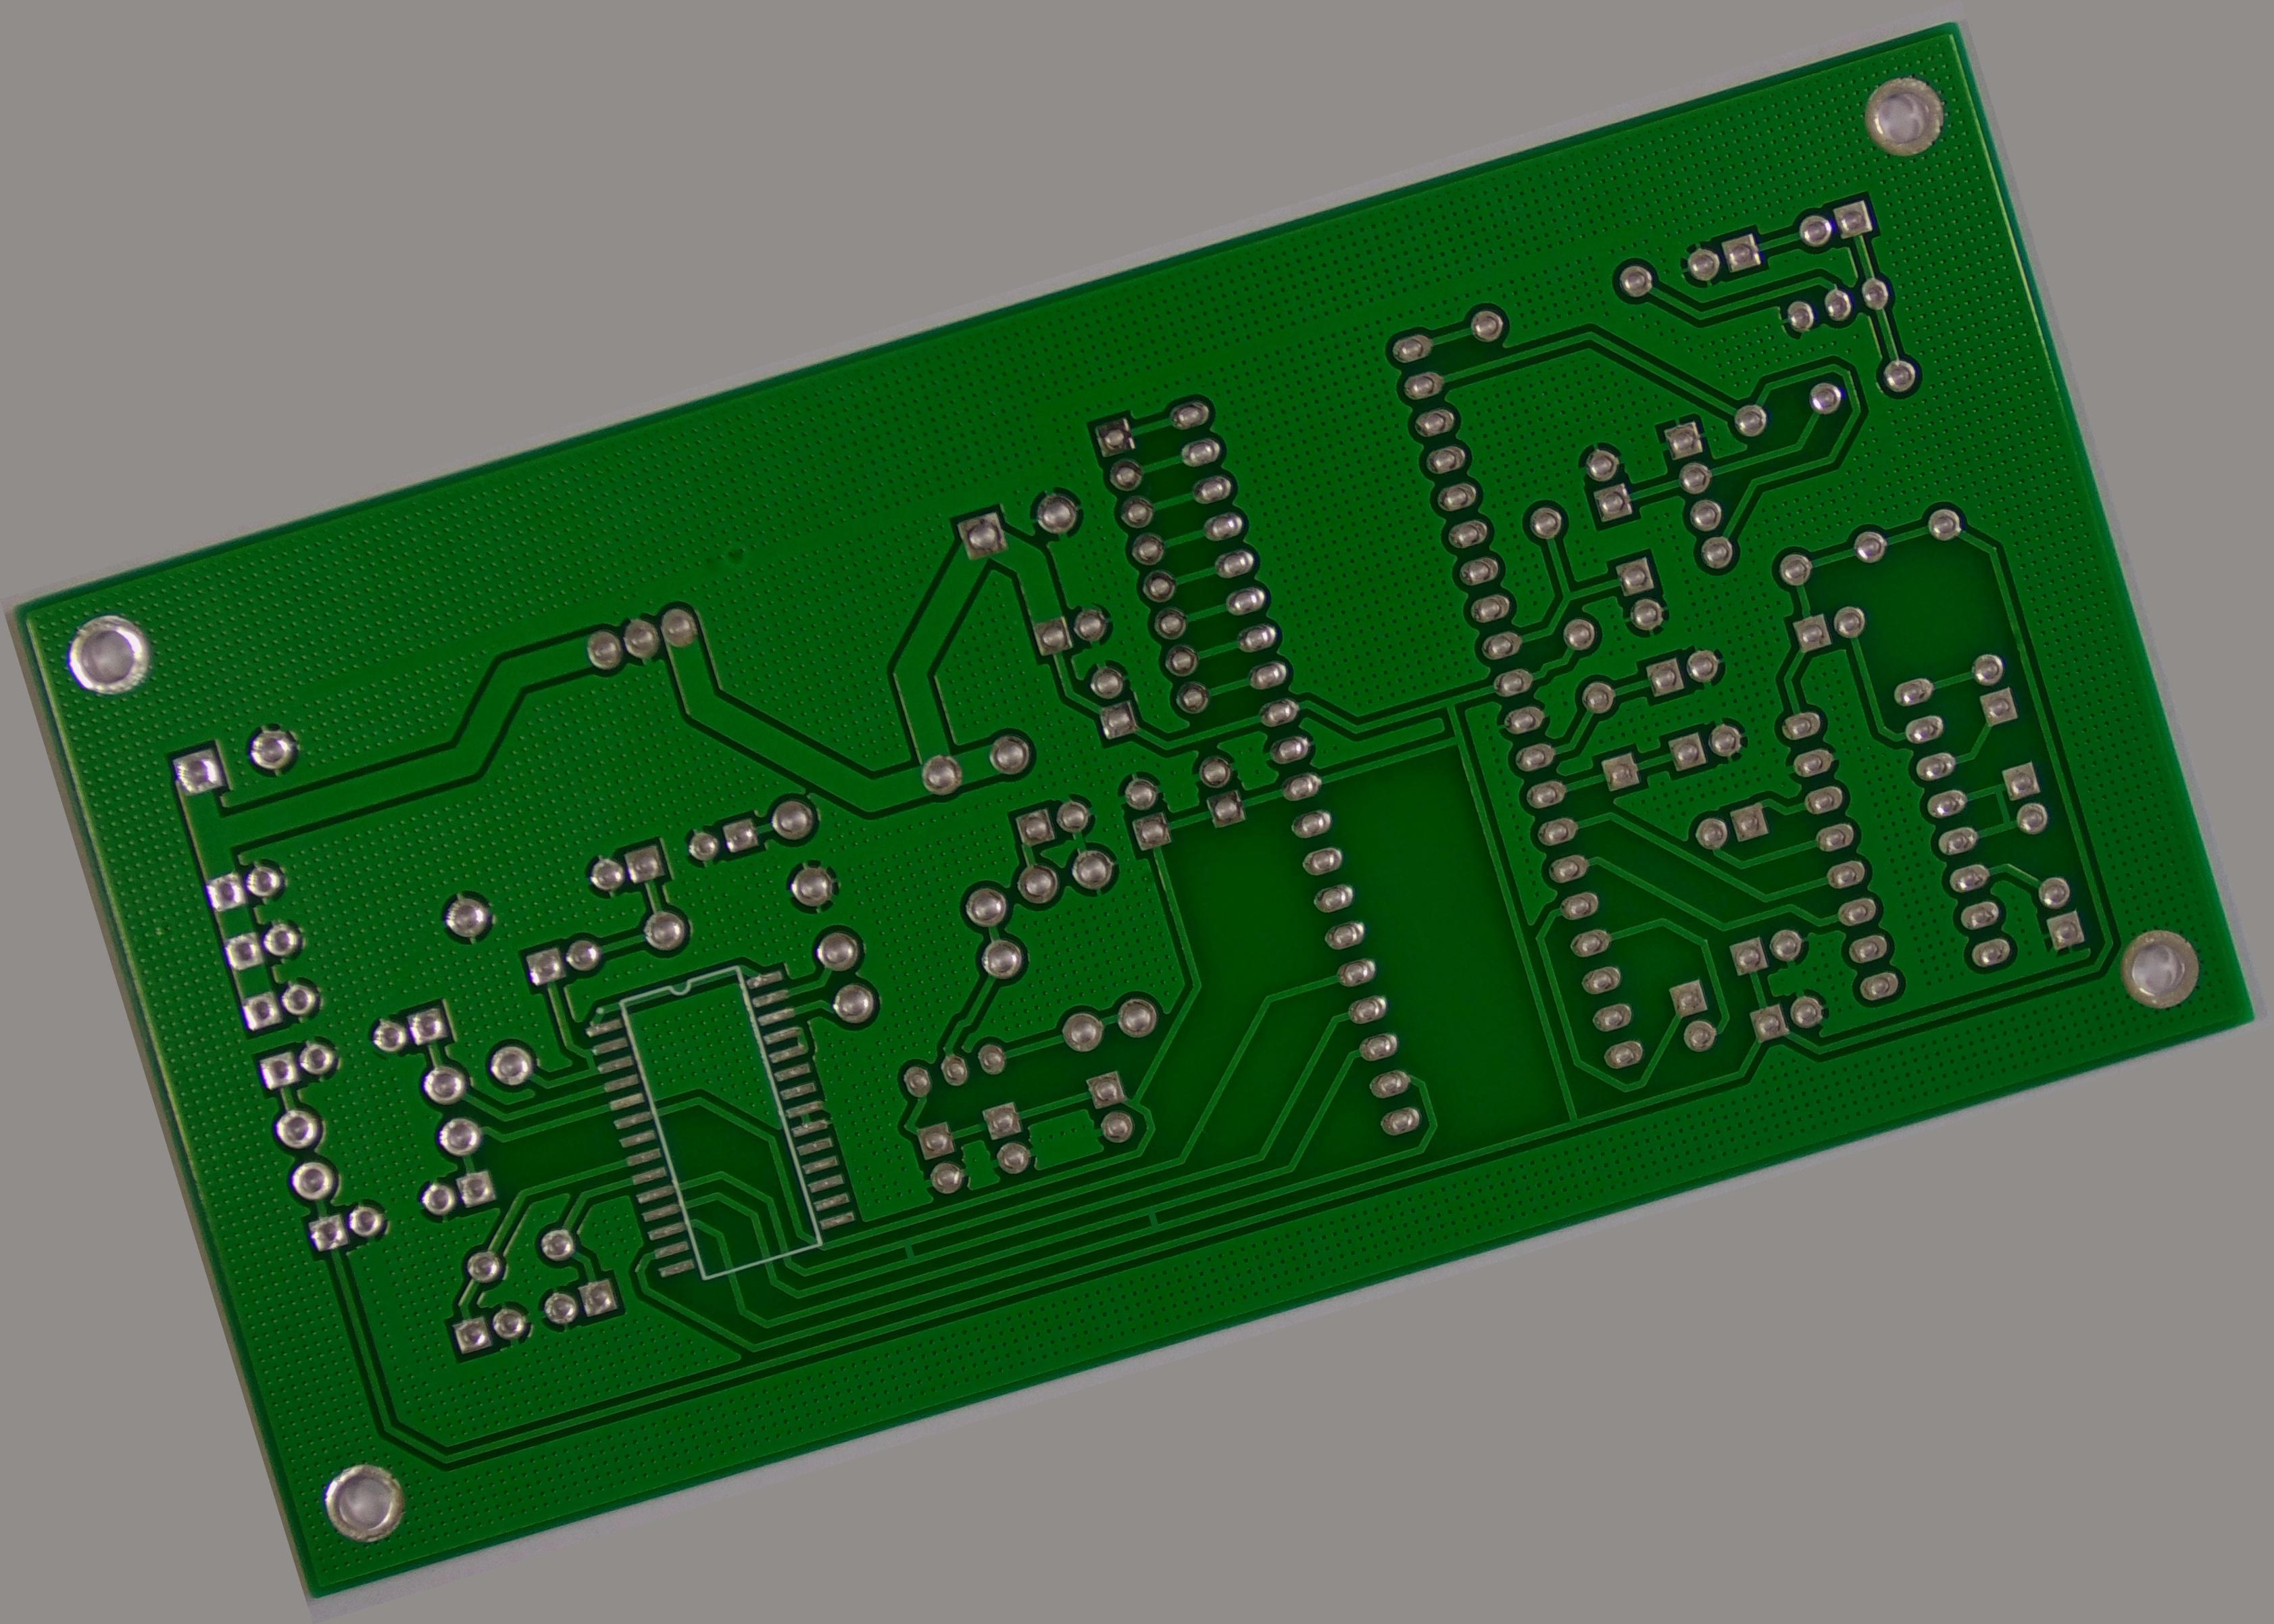short: (1972, 765, 2042, 844), (1128, 1193, 1174, 1239), (887, 1232, 930, 1272), (571, 1037, 606, 1077)
